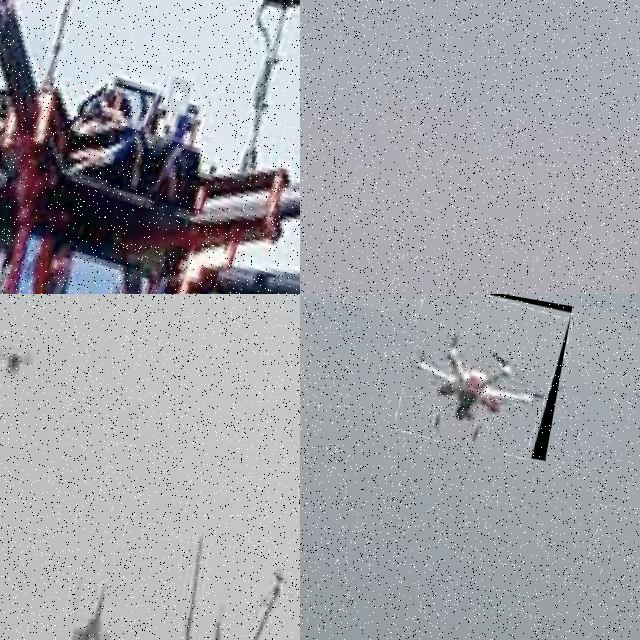drone: (0, 0, 300, 294), (395, 294, 572, 460)
